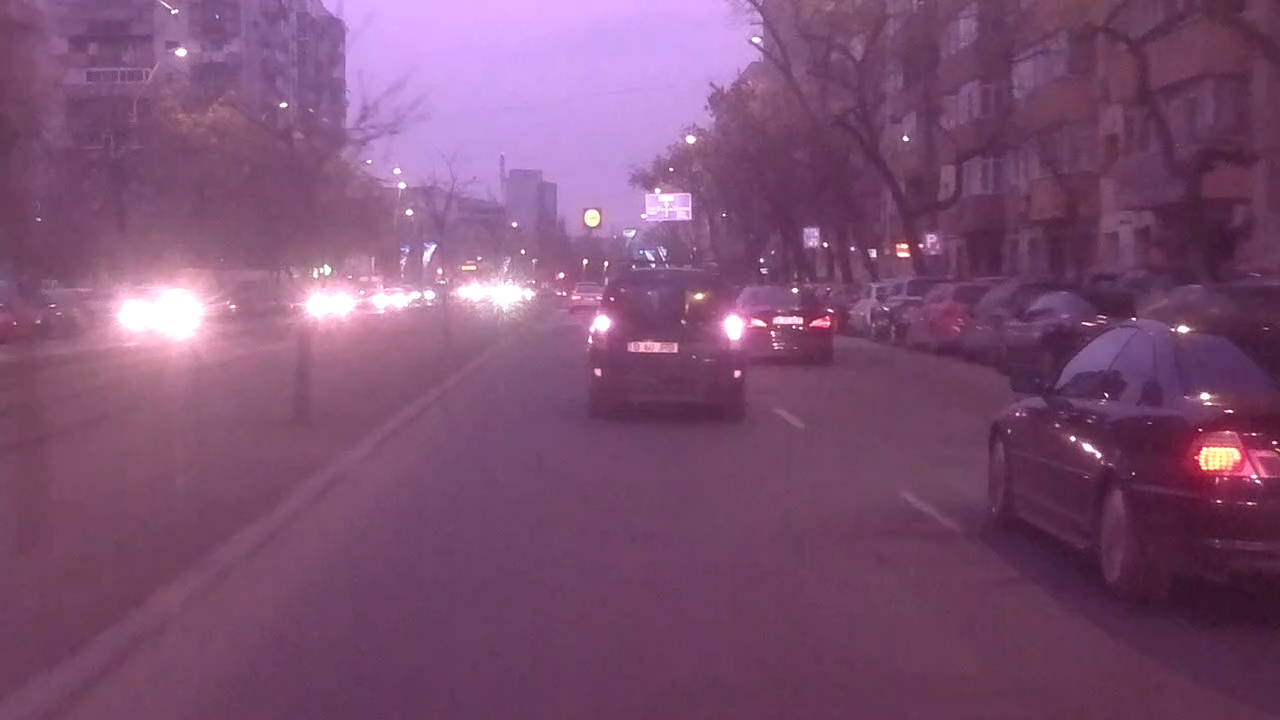license-plate: (624, 339, 680, 354)
